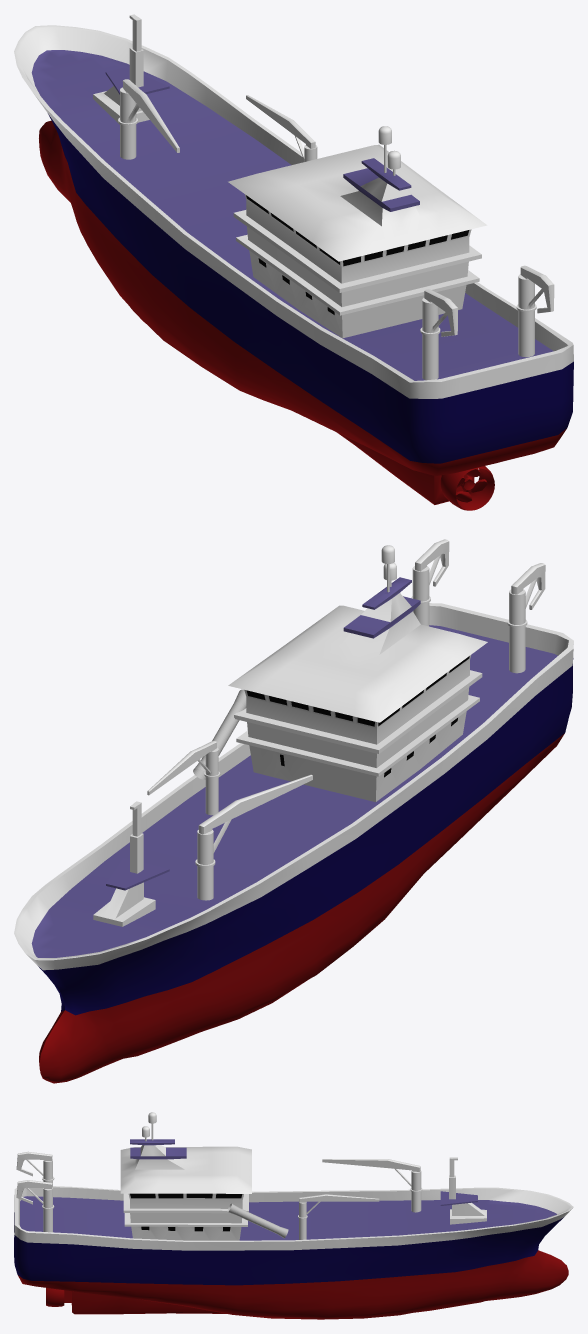
File: FishingBoat_Origin.fbx
The picture shows the model from 3 angles, top to bottom: view 1: azimuth 30°, elevation 25°; view 2: azimuth 150°, elevation 25°; view 3: azimuth 270°, elevation 25°; orthographic projection. The views are drawn at different scales.
Visible parts, largest first — view 1: Boat; view 2: Boat; view 3: Boat.
Part boxes in pixels (left/top/right/bottom): Boat: left=14, top=14, right=573, bottom=510; Boat: left=14, top=539, right=573, bottom=1083; Boat: left=14, top=1112, right=573, bottom=1319.
Size of the model in its own units: 1183 by 2152 by 5556.
